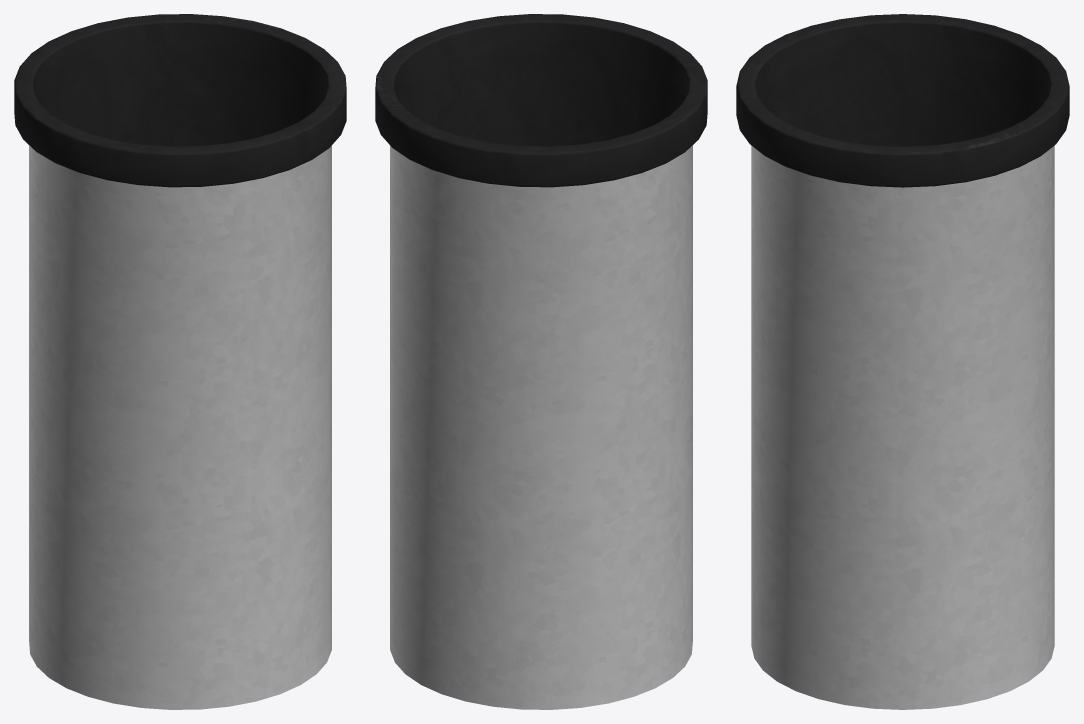
File: труба.glb
3 views of the same model, side by side, from view 1: azimuth 30°, elevation 25°; view 2: azimuth 150°, elevation 25°; view 3: azimuth 270°, elevation 25° (orthographic).
Parts seen in each view (by area): view 1: Cylinder; view 2: Cylinder; view 3: Cylinder.
Part boxes in pixels (left/top/right/bottom): Cylinder: left=14, top=14, right=346, bottom=709; Cylinder: left=375, top=14, right=707, bottom=709; Cylinder: left=736, top=14, right=1069, bottom=709.
Size of the model in its own units: 1.04 by 1.94 by 1.04.
1 material, 1 textured.
